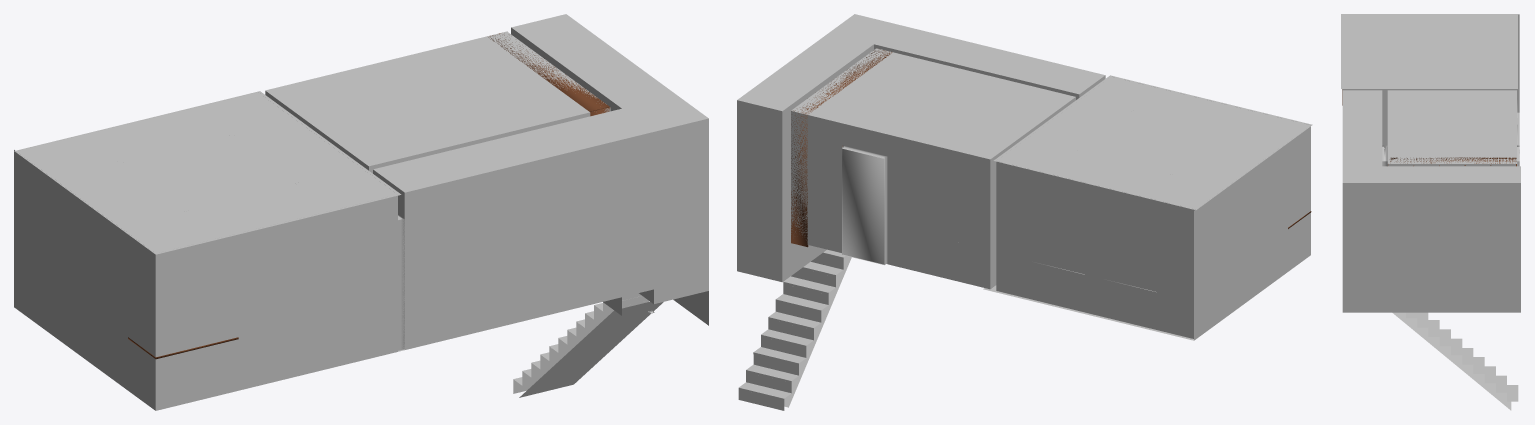
File: fukuya_2F.dae
3 renders of one model, left to right at view 1: azimuth 30°, elevation 25°; view 2: azimuth 150°, elevation 25°; view 3: azimuth 270°, elevation 25°, orthographic. The views are drawn at different scales.
Parts seen in each view (by area): view 1: sennyu_tex1, rouka_tex_1, monitor_tex_1, polySurface42, monitor_other, polySurface46, polySurface48; view 2: sennyu_tex1, monitor_tex_1, rouka_tex_1, polySurface270, polySurface46, monitor_other, polySurface42; view 3: polySurface48, sennyu_tex1, monitor_tex_1, rouka_tex_1, polySurface42, monitor_other.
Boxes of the visible parts, x1,y1,x2,y2 form: sennyu_tex1: (14,91,404,410); rouka_tex_1: (373,14,708,393); monitor_tex_1: (265,31,610,173); polySurface42: (519,302,663,397); monitor_other: (488,33,610,116); polySurface46: (511,27,621,315); polySurface48: (673,291,708,325); sennyu_tex1: (983,75,1312,340); monitor_tex_1: (791,48,1075,289); rouka_tex_1: (737,14,1105,410); polySurface270: (737,100,782,281); polySurface46: (782,44,873,281); monitor_other: (791,49,892,247); polySurface42: (784,256,851,407); polySurface48: (1342,183,1520,312); sennyu_tex1: (1341,14,1519,145); monitor_tex_1: (1385,90,1519,166); rouka_tex_1: (1342,90,1520,401); polySurface42: (1392,312,1511,410); monitor_other: (1388,157,1516,166).
Bounding box in the file's own units: 810 × 365 × 510.
